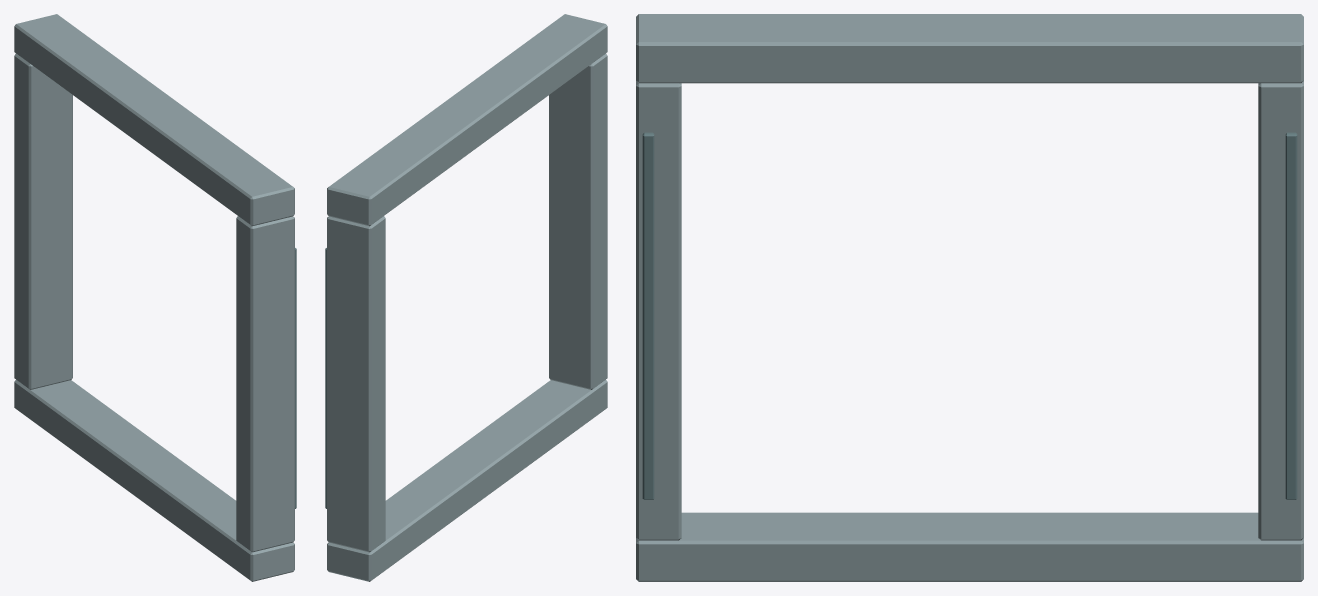
File: Systems-VentExitTransition.fbx
3 renders of one model, left to right at view 1: azimuth 30°, elevation 25°; view 2: azimuth 150°, elevation 25°; view 3: azimuth 270°, elevation 25°, orthographic. The views are drawn at different scales.
Visible parts, largest first — view 1: Left Jamb, Right Jamb, Lintel, Flush Sill, Recessed Side Trim; view 2: Right Jamb, Left Jamb, Lintel, Flush Sill, Recessed Side Trim.001; view 3: Lintel, Flush Sill, Left Jamb, Right Jamb, Recessed Side Trim, Recessed Side Trim.001.
Part boxes in pixels (x1,y1,x2,y2): Left Jamb: [236, 216, 294, 552]; Right Jamb: [14, 53, 72, 389]; Lintel: [14, 14, 294, 226]; Flush Sill: [14, 380, 294, 581]; Recessed Side Trim: [295, 248, 296, 508]; Right Jamb: [327, 216, 385, 552]; Left Jamb: [549, 53, 607, 389]; Lintel: [327, 14, 607, 226]; Flush Sill: [327, 380, 607, 581]; Recessed Side Trim.001: [325, 248, 326, 508]; Lintel: [636, 14, 1303, 83]; Flush Sill: [636, 512, 1303, 581]; Left Jamb: [636, 81, 681, 540]; Right Jamb: [1258, 81, 1303, 540]; Recessed Side Trim: [642, 132, 654, 499]; Recessed Side Trim.001: [1285, 132, 1297, 499].
Size of the model in its own units: 0.162 by 1.24 by 1.39.
